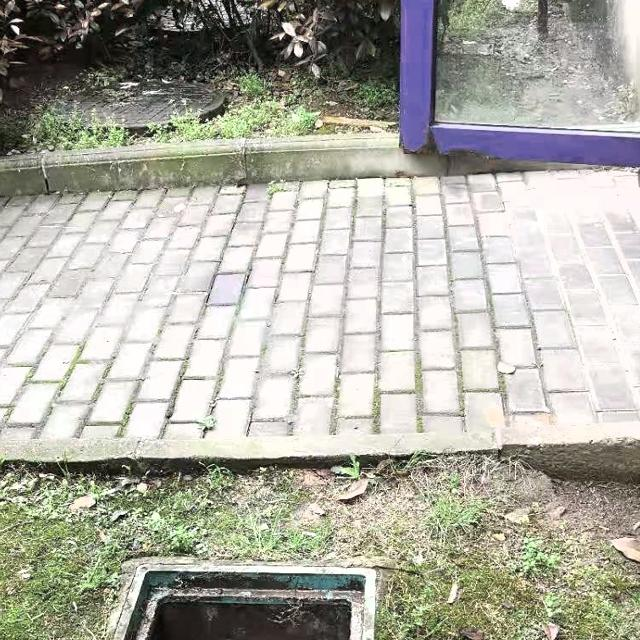lose: (40, 558, 382, 640)
